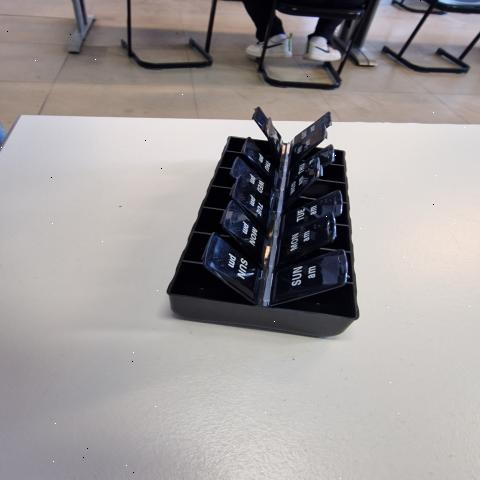Open: (271, 254, 355, 318), (168, 263, 254, 306), (282, 215, 351, 267), (181, 226, 255, 262), (296, 166, 349, 202), (304, 124, 347, 166), (229, 115, 278, 148), (297, 134, 346, 167), (193, 201, 233, 237), (219, 143, 269, 171), (202, 180, 240, 208), (209, 157, 238, 188), (319, 162, 347, 182), (333, 204, 352, 225)
